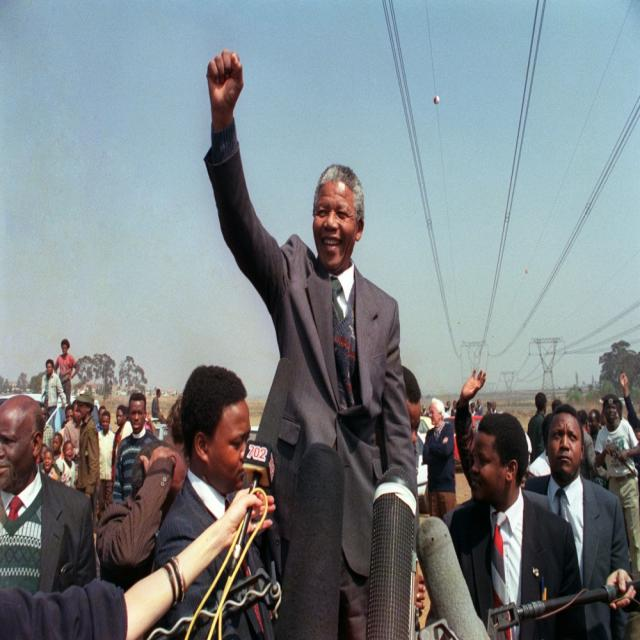body: (201, 44, 417, 639), (153, 364, 276, 640), (447, 410, 588, 640), (523, 402, 632, 640), (0, 393, 98, 596), (0, 574, 280, 640), (95, 436, 191, 589), (149, 481, 275, 574), (594, 392, 640, 582), (563, 406, 602, 614), (111, 391, 160, 507), (422, 397, 458, 518), (75, 390, 101, 499), (520, 410, 552, 491), (96, 410, 116, 518), (603, 563, 640, 621), (110, 404, 134, 492), (401, 361, 422, 461), (62, 398, 85, 486), (453, 418, 476, 501), (618, 372, 640, 454), (53, 338, 80, 403), (422, 396, 500, 418), (526, 390, 548, 465), (40, 358, 66, 408), (56, 439, 78, 489), (166, 389, 183, 449), (458, 368, 488, 397), (413, 570, 429, 621), (36, 400, 49, 453), (40, 448, 59, 480), (587, 408, 602, 446), (151, 387, 166, 424), (94, 404, 112, 434), (52, 431, 64, 464), (65, 401, 72, 423)
